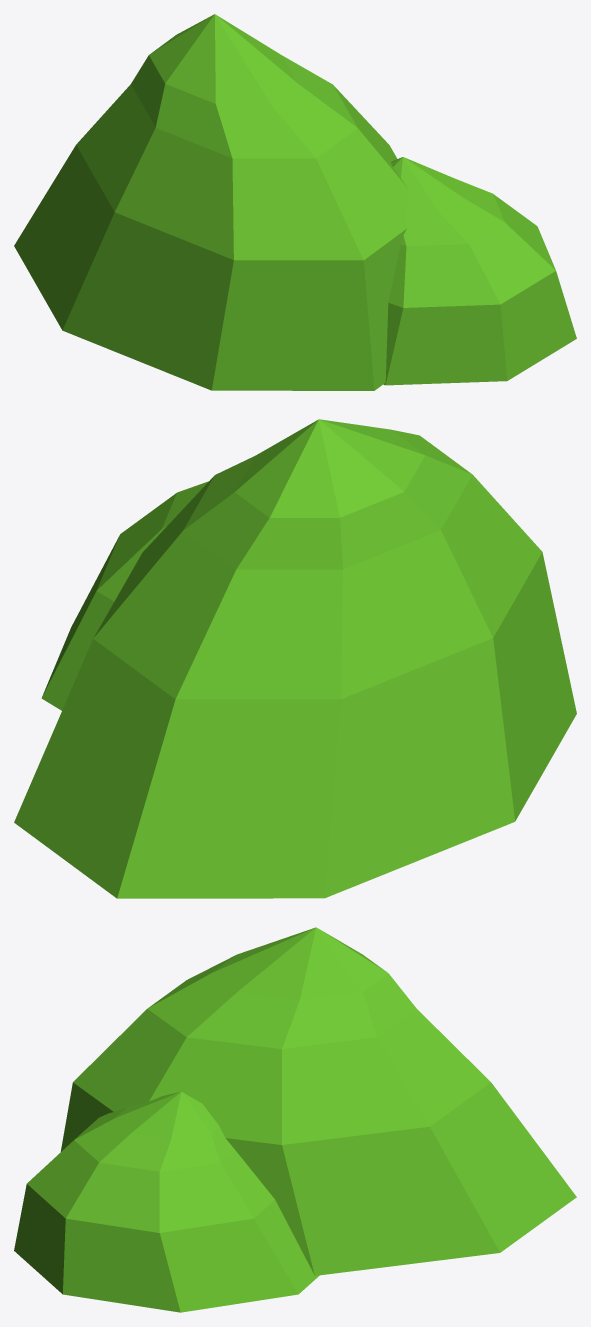
The model's file is Mountains.fbx.
3 views of the same model, one above another, from view 1: azimuth 30°, elevation 25°; view 2: azimuth 150°, elevation 25°; view 3: azimuth 270°, elevation 25° (orthographic). The views are drawn at different scales.
Visible parts, largest first — view 1: Circle; view 2: Circle; view 3: Circle.
Part boxes in pixels (bbox=[...]): Circle: bbox=[14, 14, 576, 390]; Circle: bbox=[14, 419, 576, 898]; Circle: bbox=[14, 927, 576, 1312].
Bounding box in the file's own units: 272 × 174 × 338.
